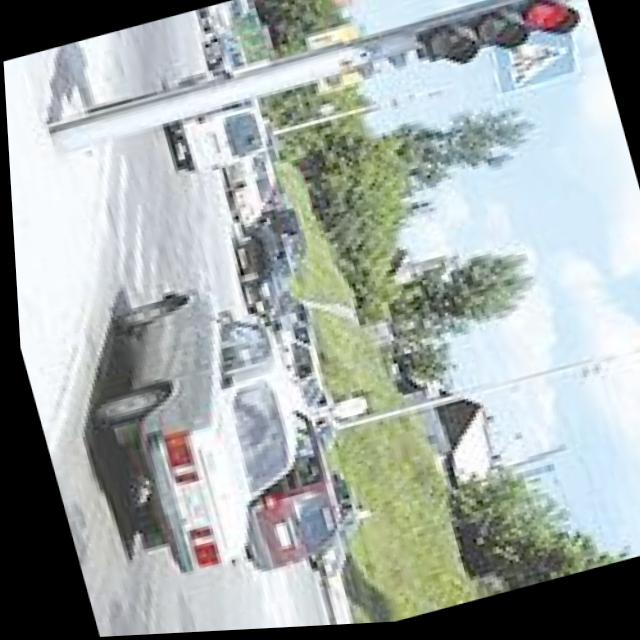red_light: (511, 0, 598, 84)
